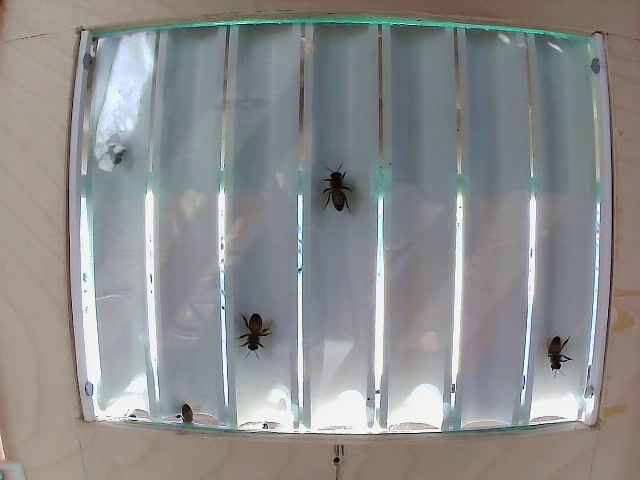bee: (324, 170, 358, 229), (542, 334, 573, 387), (237, 316, 268, 360)
